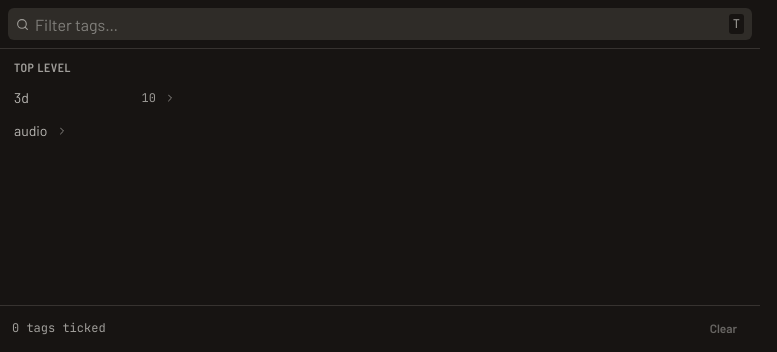
TagPicker › fills in levels that exist only as part of a deeper path
The image size is (777, 352).
Expected: the button "audio" is shown, [14,115,176,147]
Step 1. Click the button "3d 10" → (95, 98), box [14,82,176,114]
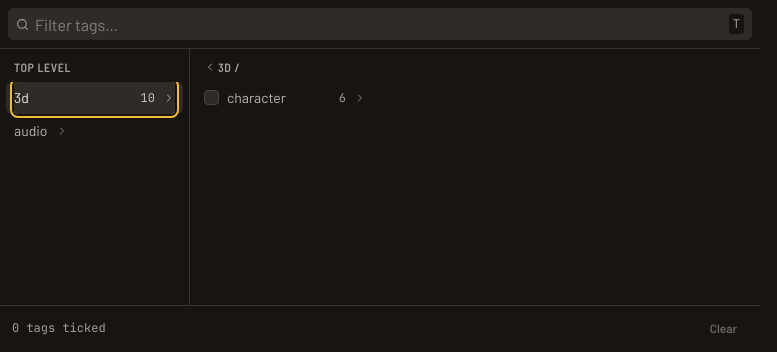
Step 2. Click the button "character 6" → (296, 98), box [227,82,366,114]
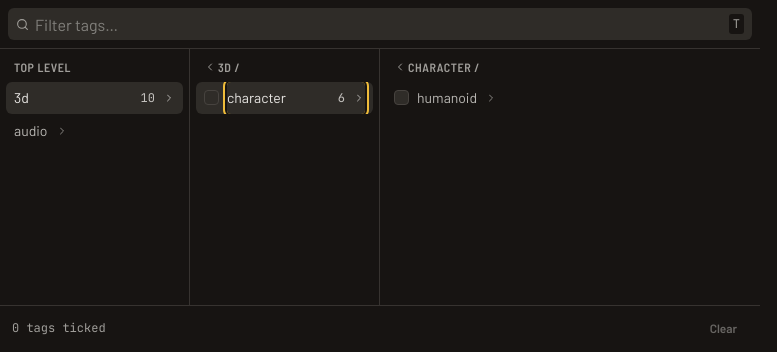
Result: the button "humanoid" is shown at [417,82,556,114]
